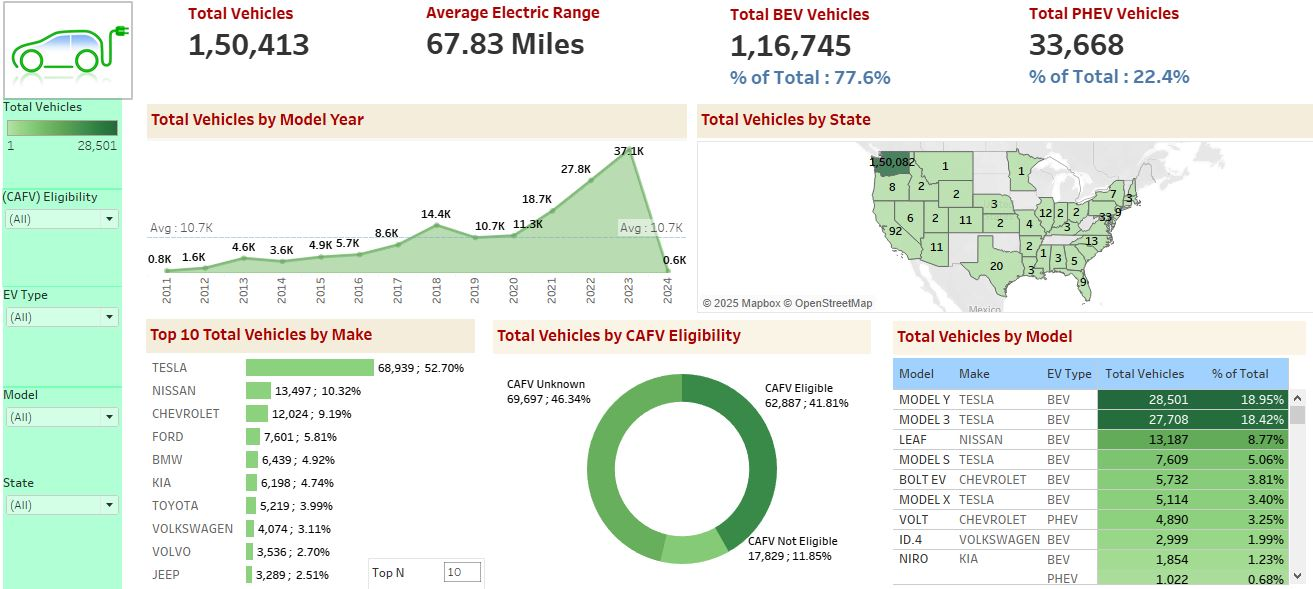

What the dashboard file says about the page in this screenshot:
{"tool":"tableau","page":{"name":"ELECTRIC VEHICLE DATA ANALYSIS","canvas":[1000,1000],"units":"permille","ordinal":0},"visuals":[{"type":"title","box":[6.7,13.5,986.6,77.6]},{"type":"image","param":"E:/1. SOFTWARE  DEVELOPER CLASSES SESSION/11. PROJECTS/5. TABLEAU DASHBOARD/EV I","box":[0,86.2,114.6,128.4]},{"type":"worksheet","title":"Total BEV Vehicles","mark":"Automatic","box":[533,89.5,213.4,174]},{"type":"worksheet","title":"Total Vehicles","mark":"Automatic","box":[125.5,92.9,179.9,136.8]},{"type":"worksheet","title":"Avg Electric Range","mark":"Automatic","box":[310.5,96.3,200,160.5]},{"type":"worksheet","title":"Total PHEV Vehicles","mark":"Automatic","box":[764,96.3,215.1,163.8]},{"type":"legend","title":"Total Vehicles by Model","param":"[federated.041y8hb04vfrtk10p9re700fww78].[usr:Calculation_673851127717347328:qk]","box":[0.8,214.5,88.7,155.4]},{"type":"worksheet","title":"Total Vehicles by Model Year","mark":"Area","rows":["Calculation_673851127717347328","Calculation_673851127717347328"],"cols":["Model Year"],"box":[97.1,248.3,419.2,356.4]},{"type":"worksheet","title":"Total Vehicles by State","mark":"Multipolygon","box":[514.6,251.7,471.1,342.9]},{"type":"filter","title":"Total Vehicles by CAFV Eligibility","param":"[federated.041y8hb04vfrtk10p9re700fww78].[none:Clean Alternative Fuel Vehicle (C","box":[0.8,369.9,89.5,167.2]},{"type":"filter","title":"Top 10 Total Vehicles by Make","param":"[federated.041y8hb04vfrtk10p9re700fww78].[none:Electric Vehicle Type:nk]","box":[1.7,535.5,88.7,172.3]},{"type":"worksheet","title":"Total Vehicles by Model","mark":"Square","rows":["Model","Make","Electric Vehicle Type"],"box":[662.8,586.1,317.2,412.2]},{"type":"worksheet","title":"Total Vehicles by CAFV Eligibility","mark":"Pie","rows":["Calculation_757449195831640067","Calculation_757449195831640067"],"box":[364,589.5,291.2,402]},{"type":"worksheet","title":"Top 10 Total Vehicles by Make","mark":"Automatic","rows":["Make"],"cols":["Calculation_673851127717347328"],"box":[97.9,598,261.9,402]},{"type":"filter","title":"Total Vehicles by State","param":"[federated.041y8hb04vfrtk10p9re700fww78].[none:Model:nk]","box":[2.5,707.8,88.7,148.7]},{"type":"filter","title":"Total Vehicles by State","param":"[federated.041y8hb04vfrtk10p9re700fww78].[none:State:nk]","box":[3.4,856.4,88.7,143.6]},{"type":"parameter","param":"[Parameters].[Parameter 1]","box":[275.3,942.6,87,55.7]}]}

Visuals, with their boxes on the dashboard's canvas, which has no fixed pixel size, in thousandths of its width and height (x1, y1, x2, y2). These are canvas units, not pixel positions in the 1313x589 screenshot, which may show the page scaled, cropped or inside an application window:
title: rect(7, 14, 993, 91)
image: rect(0, 86, 115, 215)
"Total BEV Vehicles" worksheet: rect(533, 90, 746, 264)
"Total Vehicles" worksheet: rect(126, 93, 305, 230)
"Avg Electric Range" worksheet: rect(310, 96, 510, 257)
"Total PHEV Vehicles" worksheet: rect(764, 96, 979, 260)
"Total Vehicles by Model" legend: rect(1, 214, 90, 370)
"Total Vehicles by Model Year" worksheet (Area marks): rect(97, 248, 516, 605)
"Total Vehicles by State" worksheet (Multipolygon marks): rect(515, 252, 986, 595)
"Total Vehicles by CAFV Eligibility" filter: rect(1, 370, 90, 537)
"Top 10 Total Vehicles by Make" filter: rect(2, 536, 90, 708)
"Total Vehicles by Model" worksheet (Square marks): rect(663, 586, 980, 998)
"Total Vehicles by CAFV Eligibility" worksheet (Pie marks): rect(364, 590, 655, 992)
"Top 10 Total Vehicles by Make" worksheet: rect(98, 598, 360, 1000)
"Total Vehicles by State" filter: rect(2, 708, 91, 856)
"Total Vehicles by State" filter: rect(3, 856, 92, 1000)
parameter: rect(275, 943, 362, 998)
